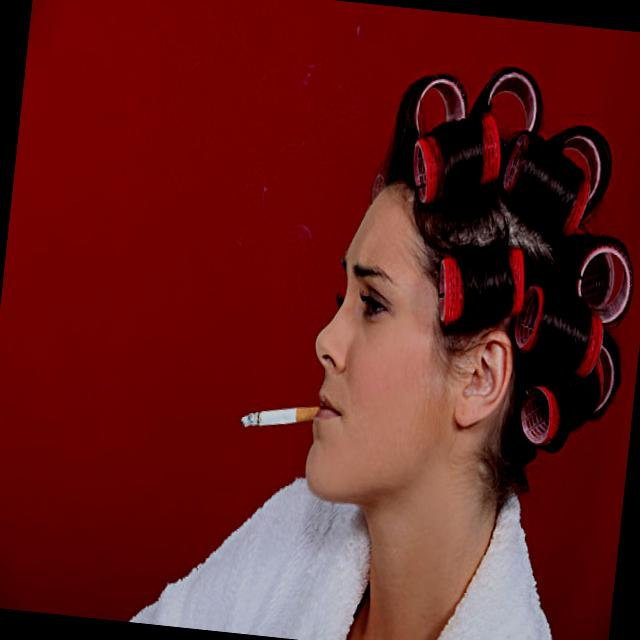smoke: (238, 388, 322, 444)
